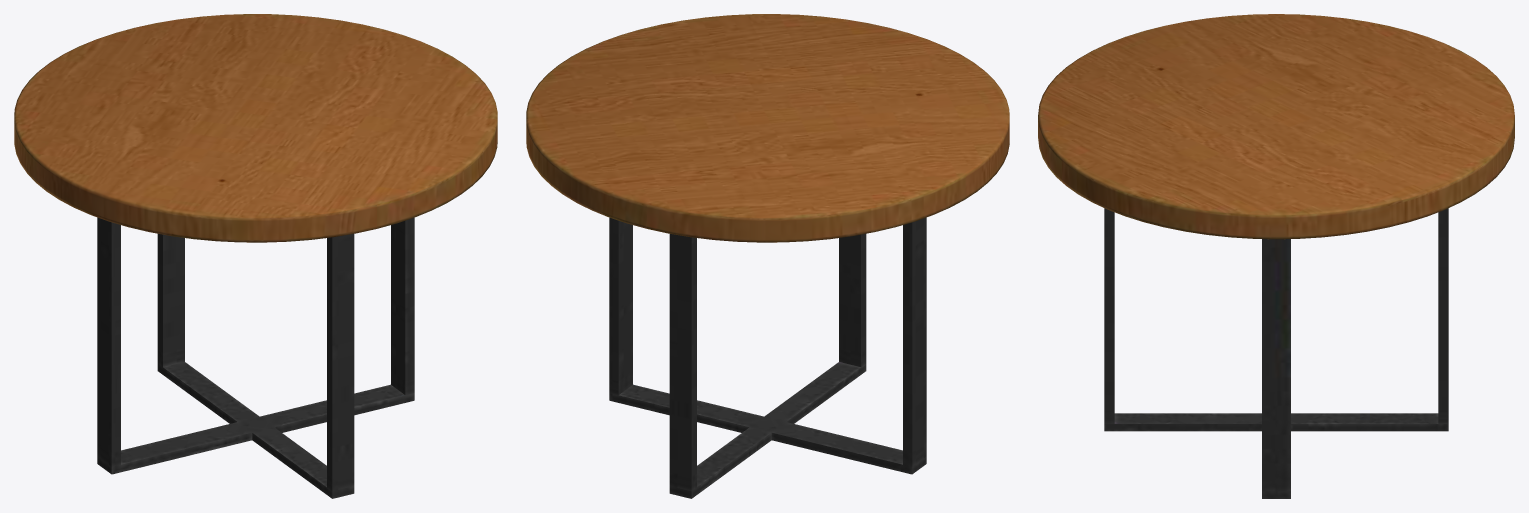
The model's file is Table27.glb.
The picture shows the model from 3 angles, left to right: view 1: azimuth 30°, elevation 25°; view 2: azimuth 150°, elevation 25°; view 3: azimuth 270°, elevation 25°; orthographic projection.
Parts seen in each view (by area): view 1: Table27_model; view 2: Table27_model; view 3: Table27_model.
Boxes of the visible parts, left/top/right/bottom form: Table27_model: left=14, top=14, right=497, bottom=498; Table27_model: left=526, top=14, right=1009, bottom=498; Table27_model: left=1038, top=14, right=1514, bottom=498.
Bounding box in the file's own units: 2.2 × 1.59 × 2.2.
Materials: 1 (1 with a texture image).
